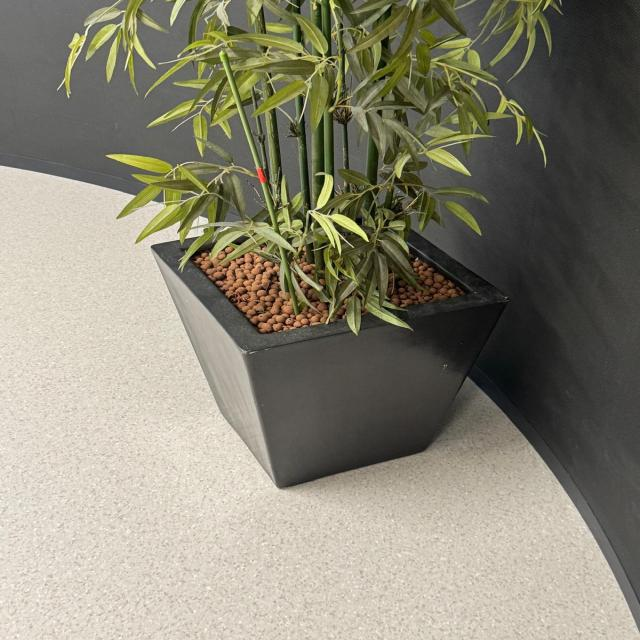Pot: (151, 202, 509, 490)
